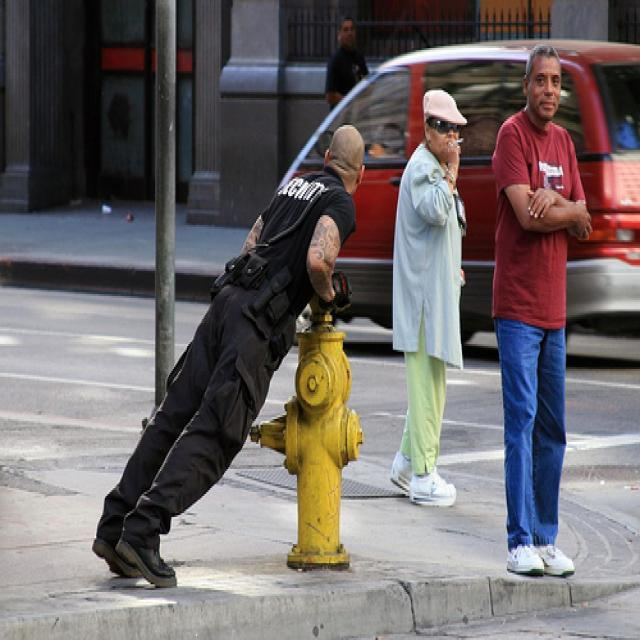fire_hydrant: (248, 309, 364, 573)
